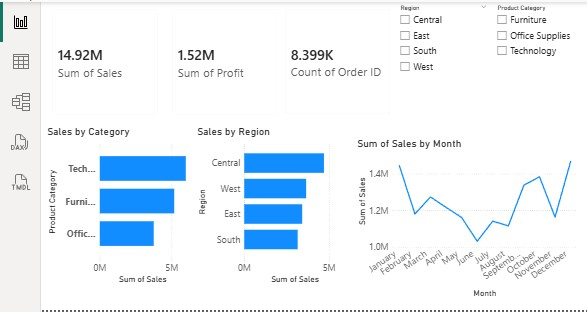

This screenshot's page, from the dashboard's own definition file:
{"tool":"powerbi","page":{"name":"Page 1","canvas":[1280,720],"ordinal":0},"visuals":[{"type":"cardVisual","fields":{"Data":["Sum(Orders.Sales)"]},"box":[10,0,280,280],"z":0},{"type":"cardVisual","fields":{"Data":["Sum(Orders.Profit)"]},"box":[289.7,0,279.2,280.9],"z":1},{"type":"cardVisual","fields":{"Data":["CountNonNull(Orders.Order ID)"]},"box":[553.1,0,279.2,279.2],"z":2},{"type":"clusteredBarChart","title":"Sales by Category","fields":{"Y":["Sum(Orders.Sales)"],"Category":["Orders.Product Category"]},"box":[9.3,289.6,350.4,373.7],"z":3},{"type":"clusteredBarChart","title":"Sales by Region","fields":{"Y":["Sum(Orders.Sales)"],"Category":["Orders.Region"]},"box":[359.7,289.6,373.7,373.7],"z":4},{"type":"lineChart","fields":{"Category":["Orders.Order Date.Variation.Date Hierarchy.Year","Orders.Order Date.Variation.Date Hierarchy.Month"],"Y":["Sum(Orders.Sales)"]},"box":[733.4,317.7,523.2,378.4],"z":6},{"type":"slicer","fields":{"Values":["Orders.Product Category"]},"box":[1053.4,0,226.6,200.9],"z":7},{"type":"slicer","fields":{"Values":["Orders.Region"]},"box":[826.9,0,226.6,200.9],"z":8}]}

Visuals, with their boxes on the page's 1280x720 design canvas (x1, y1, x2, y2). These are canvas units, not pixel positions in the 587x312 screenshot, which may show the page scaled, cropped or inside an application window:
cardVisual - Sum(Orders.Sales): bbox=[10, 0, 290, 280]
cardVisual - Sum(Orders.Profit): bbox=[290, 0, 569, 281]
cardVisual - CountNonNull(Orders.Order ID): bbox=[553, 0, 832, 279]
"Sales by Category" clusteredBarChart: bbox=[9, 290, 360, 663]
"Sales by Region" clusteredBarChart: bbox=[360, 290, 733, 663]
lineChart - Orders.Order Date.Variation.Date Hierarchy.Year x Orders.Order Date.Variation.Date Hierarchy.Month: bbox=[733, 318, 1257, 696]
slicer - Orders.Product Category: bbox=[1053, 0, 1280, 201]
slicer - Orders.Region: bbox=[827, 0, 1054, 201]
